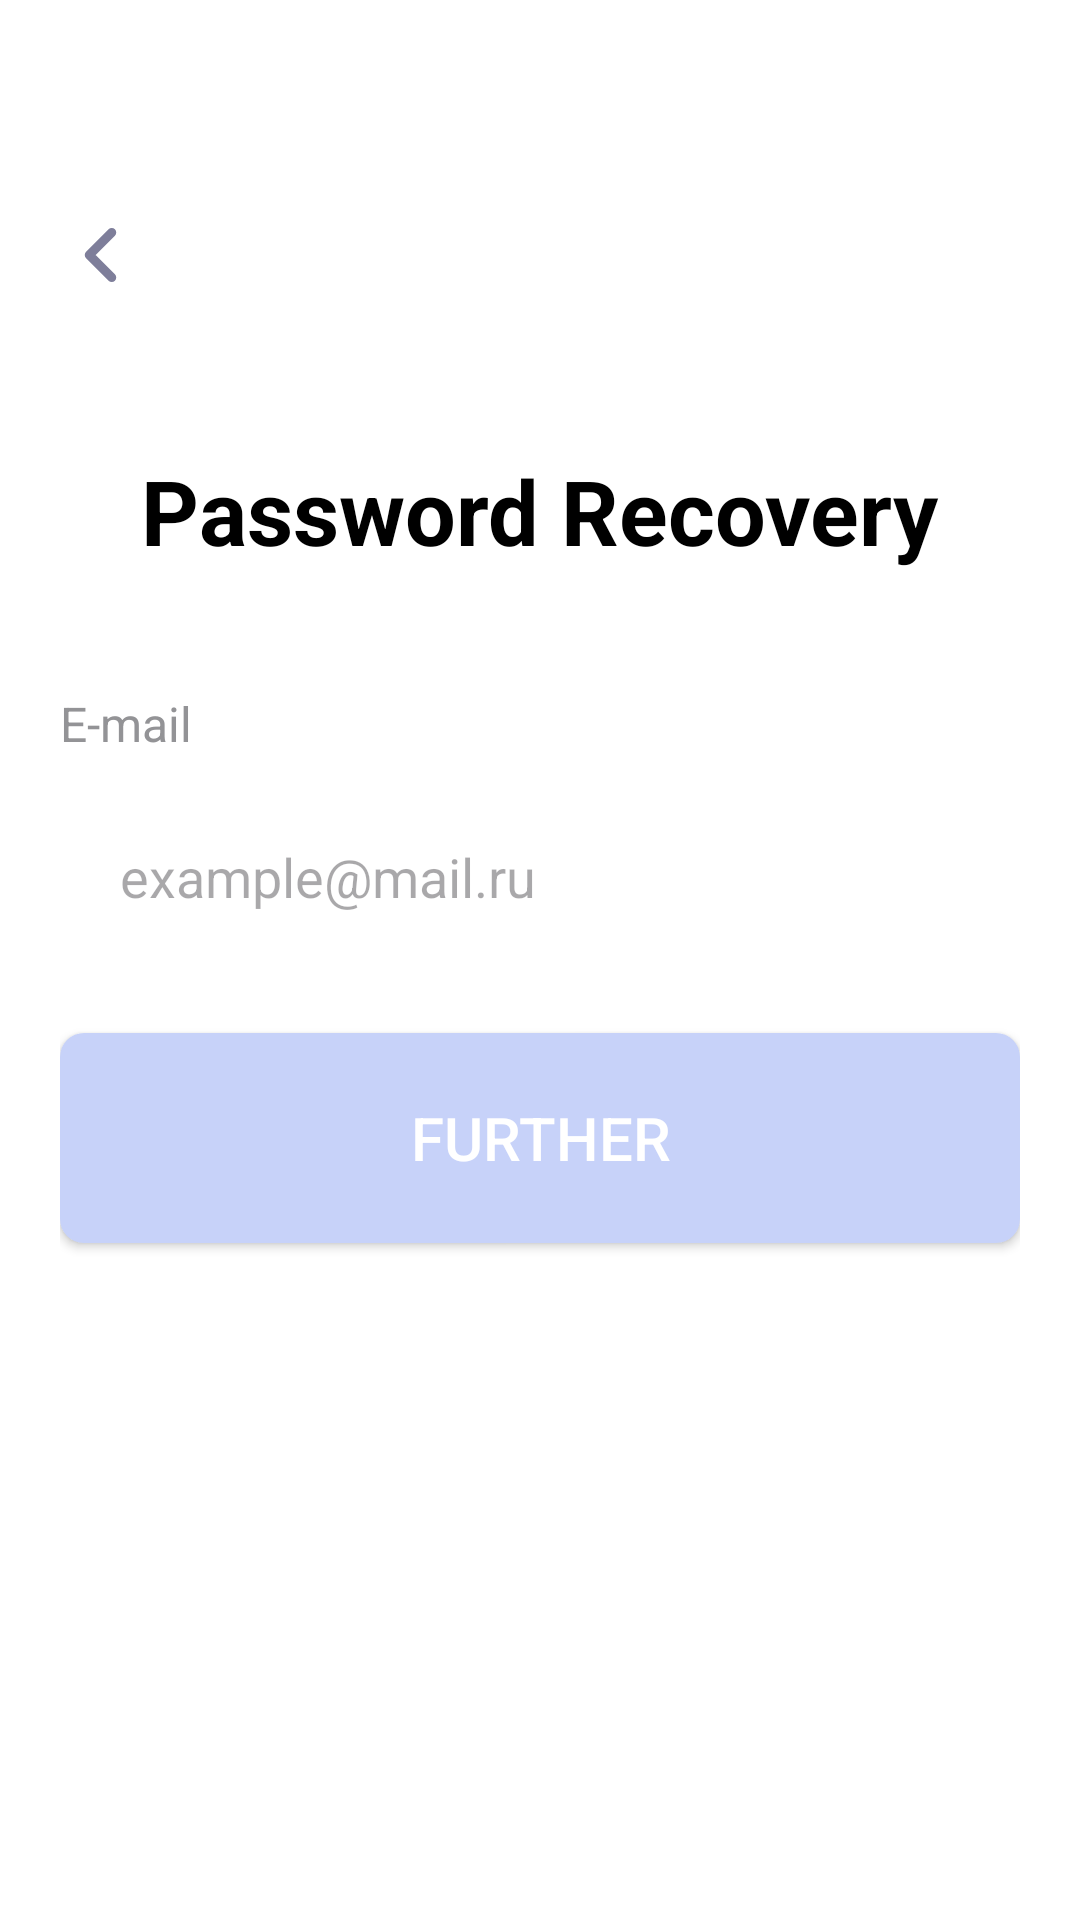

Locate icon controls on the screen. Image size 1080 x 1920, boxes as (x1, y1, x2, y2).
arrow: (85, 228, 117, 282)
